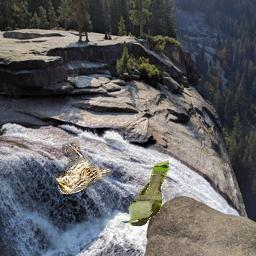Cuckoo: (121, 160, 169, 226)
Sparrow: (55, 144, 113, 195)
